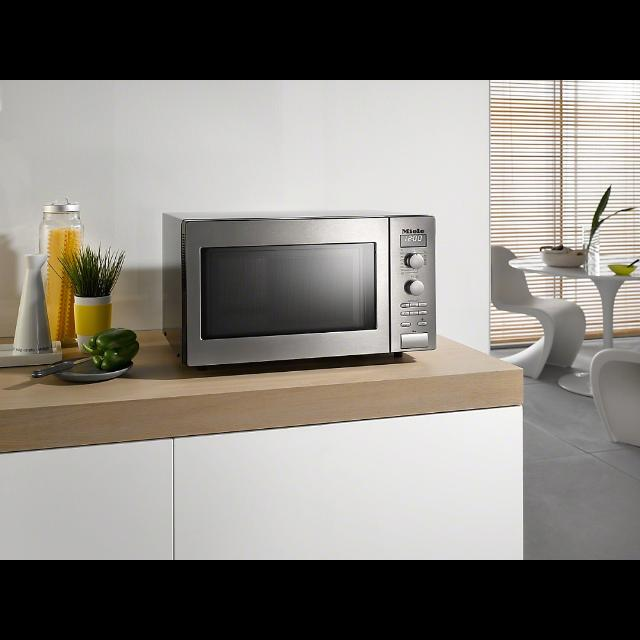Microwave: (158, 210, 438, 370)
